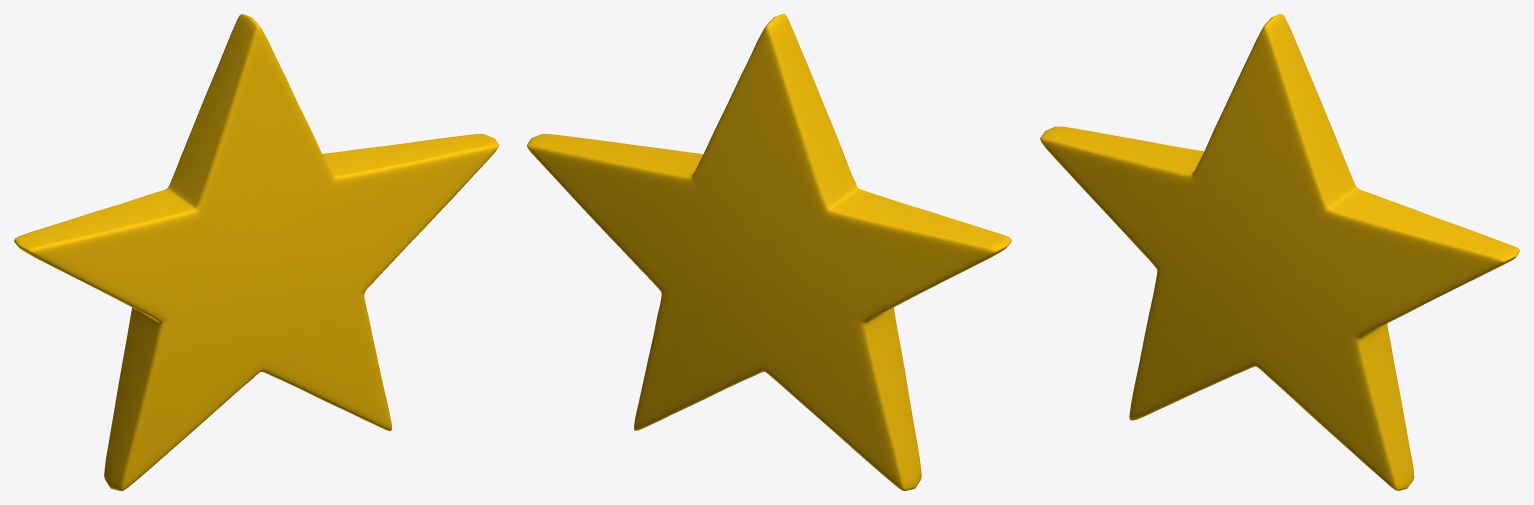
The model's file is star-transformed.glb.
The picture shows the model from 3 angles, left to right: view 1: azimuth 30°, elevation 25°; view 2: azimuth 150°, elevation 25°; view 3: azimuth 330°, elevation 25°; orthographic projection.
Parts seen in each view (by area): view 1: Star_Gold_0; view 2: Star_Gold_0; view 3: Star_Gold_0.
Part boxes in pixels (left/top/right/bottom): Star_Gold_0: left=14, top=14, right=498, bottom=490; Star_Gold_0: left=527, top=14, right=1011, bottom=490; Star_Gold_0: left=1040, top=14, right=1519, bottom=490.
Size of the model in its own units: 0.7148 by 0.6358 by 0.0922.
